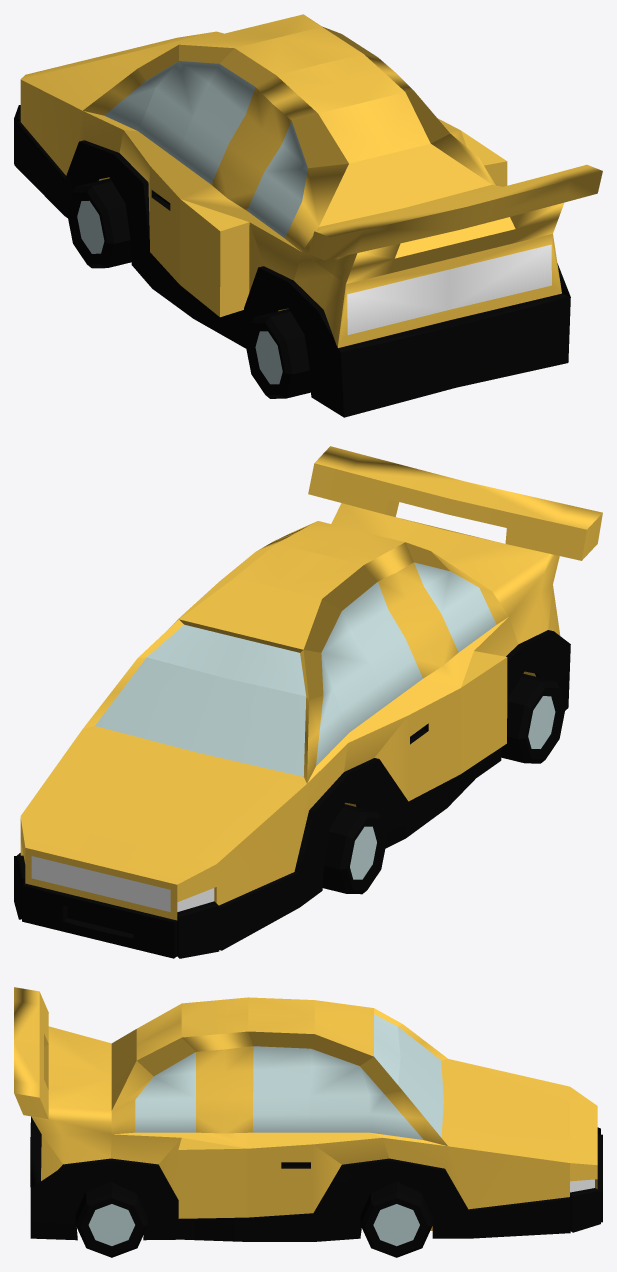
File: carNew.fbx
The picture shows the model from 3 angles, top to bottom: view 1: azimuth 30°, elevation 25°; view 2: azimuth 150°, elevation 25°; view 3: azimuth 270°, elevation 25°; orthographic projection. The views are drawn at different scales.
Parts seen in each view (by area): view 1: carNewer; view 2: carNewer; view 3: carNewer.
Boxes of the visible parts, <box> form: carNewer: <box>14,14,602,417</box>; carNewer: <box>14,446,602,958</box>; carNewer: <box>14,987,602,1257</box>.
Bounding box in the file's own units: 157 × 125 × 349.
